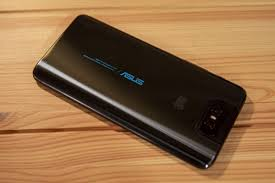asus: (25, 11, 248, 171)
